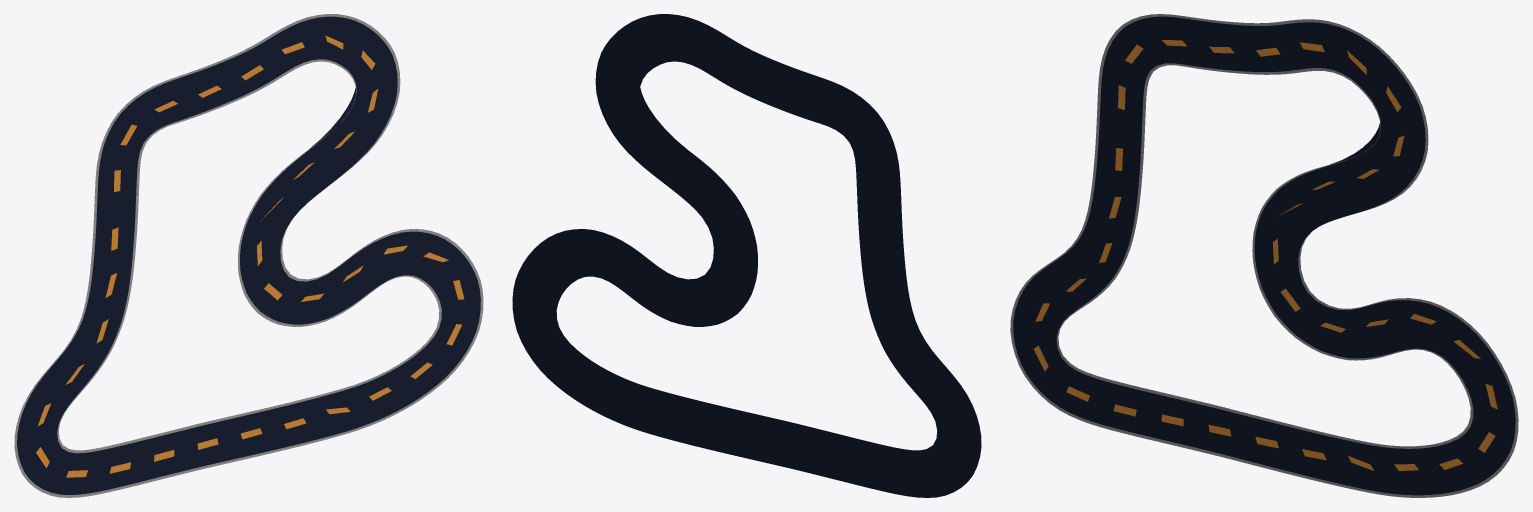
The model's file is track.obj.
3 renders of one model, left to right at view 1: azimuth 30°, elevation 25°; view 2: azimuth 150°, elevation 25°; view 3: azimuth 330°, elevation 25°, orthographic. The views are drawn at different scales.
Size of the model in its own units: 6.99 by 6.08 by 0.002.
